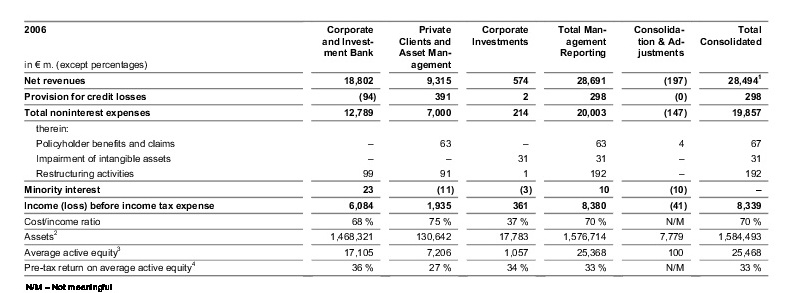table: (0, 0, 793, 293)
